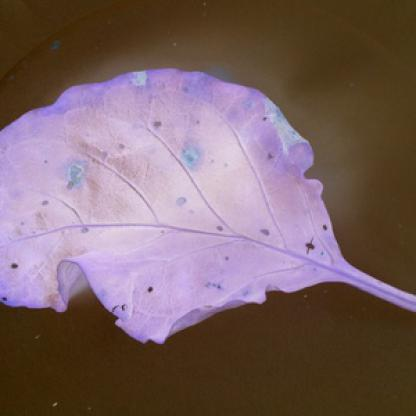bell pepper leaf spot: (1, 60, 352, 340)
